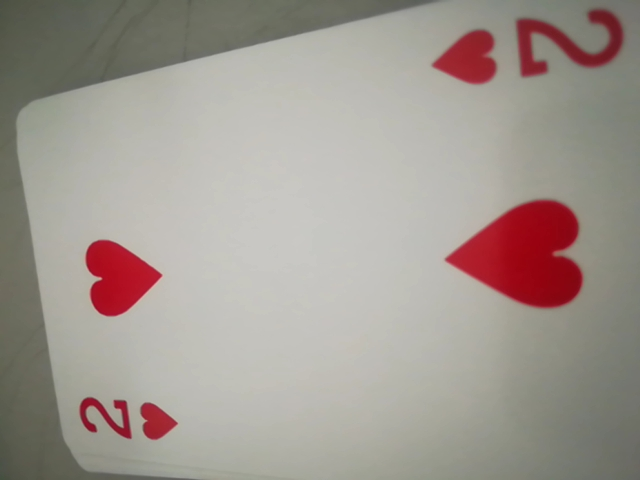hx 2: (427, 2, 640, 99), (73, 389, 190, 458)
